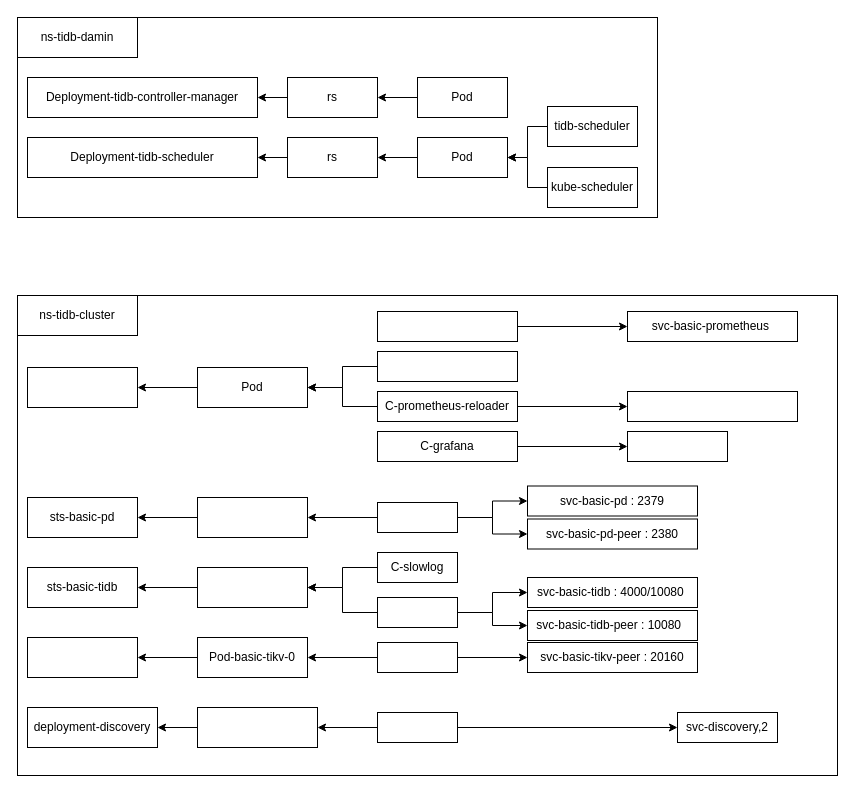
Image size: 855x793. Some labels were removed from this diagram. The box of each missing label's shape, as (x1, y1, x2, y2) in pixels:
C-discovery: (376, 712, 458, 742)
C-pd: (376, 502, 458, 532)
C-prometheus: (376, 310, 518, 342)
C-reloader: (376, 350, 518, 382)
C-tidb: (376, 596, 458, 628)
C-tikv: (376, 642, 458, 672)
Pod-basic-pd-0: (196, 496, 308, 538)
Pod-basic-tidb-0: (196, 566, 308, 608)
rs-basic-discovery-0: (196, 706, 318, 748)
sts-basic-monitor: (26, 366, 138, 408)
sts-basic-tikv: (26, 636, 138, 678)
svc-basic-monitor-reloader: (626, 390, 798, 422)
svc-grafana,1: (626, 430, 728, 462)
